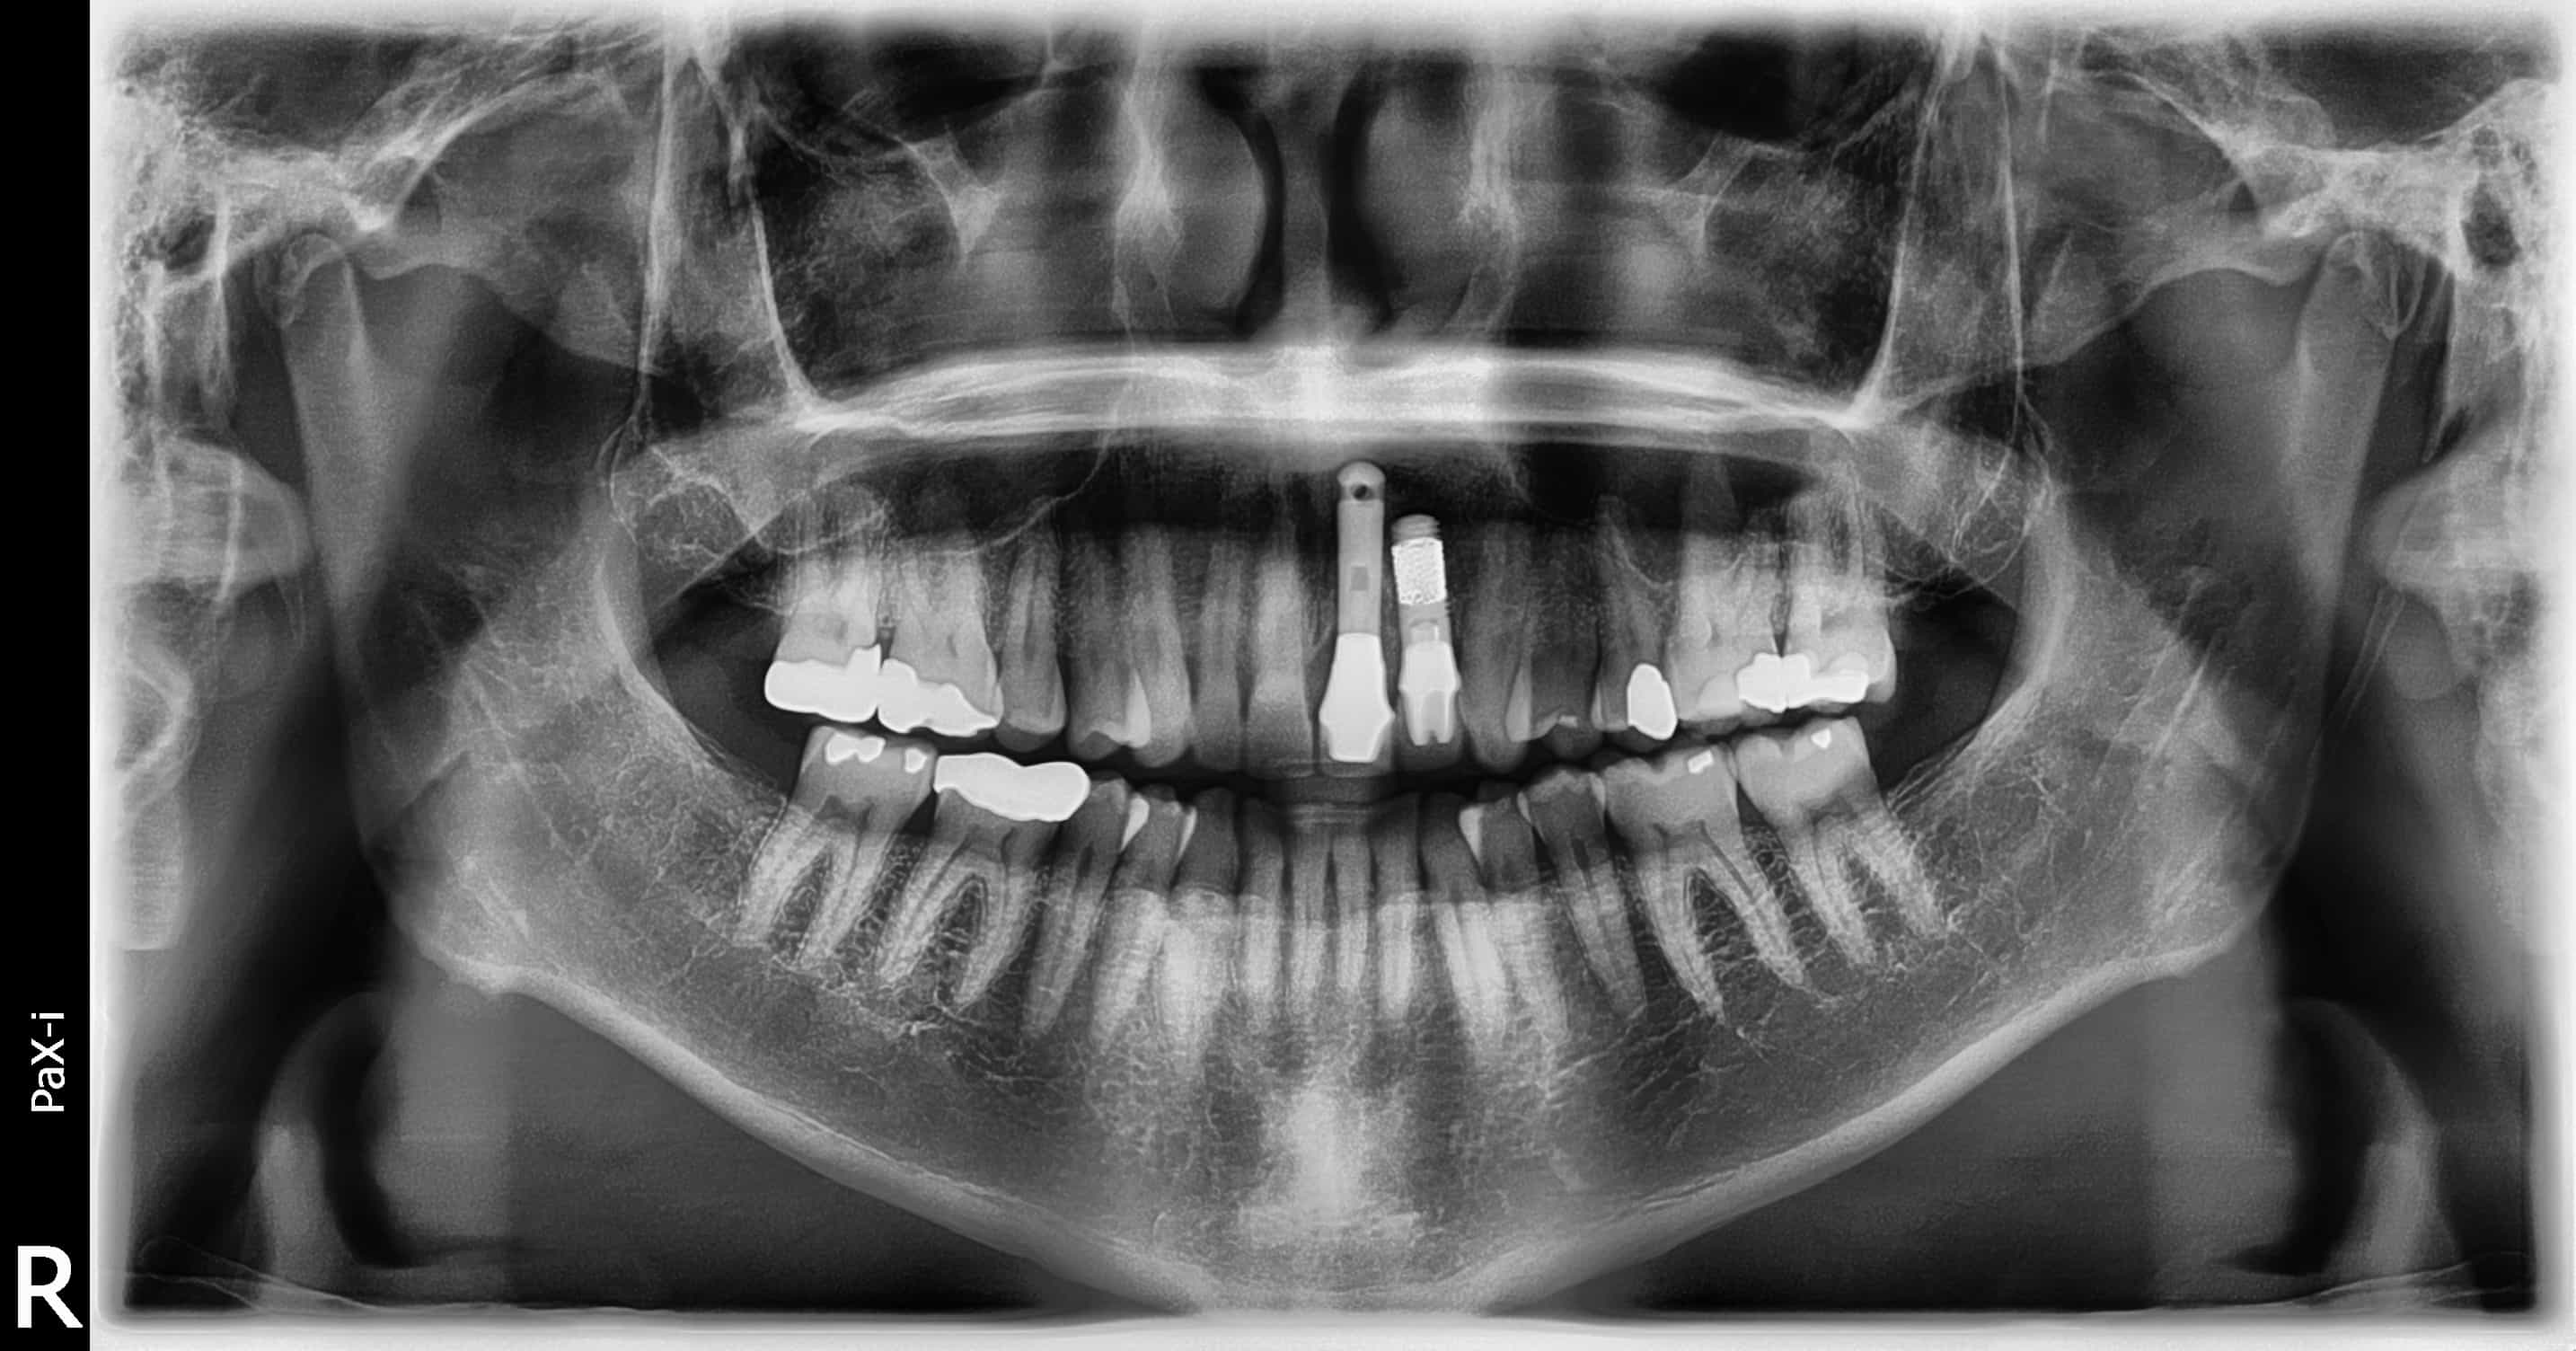incisor: (1252, 545, 1322, 785), (1191, 535, 1257, 777), (1363, 767, 1423, 1017), (1285, 799, 1339, 1012), (1244, 802, 1291, 1032), (1336, 785, 1377, 1000)
molar: (1600, 731, 1811, 1038), (755, 666, 946, 974), (917, 690, 1095, 1019), (1731, 712, 1951, 951), (877, 504, 1017, 753), (758, 508, 911, 733), (1658, 506, 1797, 733), (1782, 508, 1918, 721)
premolar: (1511, 762, 1670, 1026), (1463, 785, 1579, 1038), (1051, 508, 1162, 767), (1058, 751, 1148, 1061), (986, 518, 1090, 756), (1126, 770, 1211, 1044)
